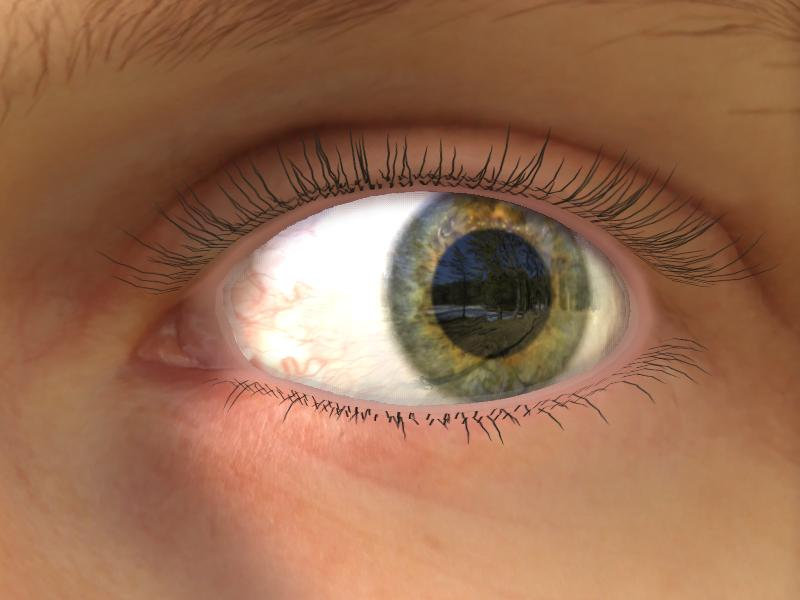eye: (388, 192, 592, 400)
